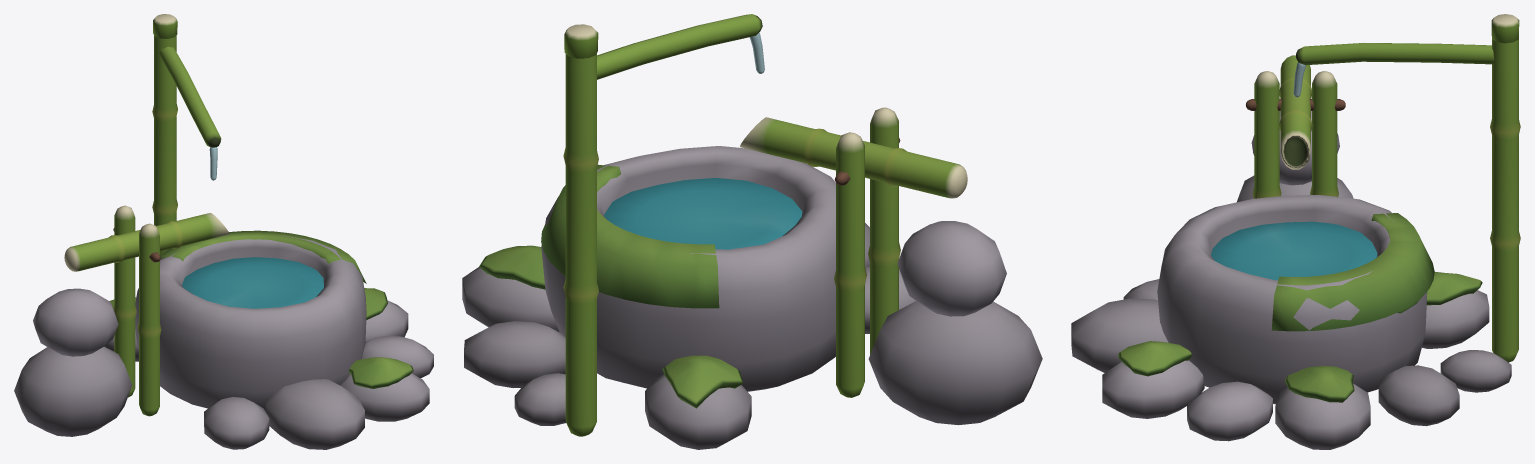
File: shishi-odoshi.glb
The picture shows the model from 3 angles, left to right: view 1: azimuth 30°, elevation 25°; view 2: azimuth 150°, elevation 25°; view 3: azimuth 270°, elevation 25°; orthographic projection. The views are drawn at different scales.
Visible parts, largest first — view 1: base, rocker; view 2: base, rocker; view 3: base, rocker.
Part boxes in pixels (<box>): base: <box>14,14,433,449</box>; rocker: <box>64,213,229,271</box>; base: <box>462,14,1042,449</box>; rocker: <box>740,117,967,198</box>; base: <box>1071,14,1520,449</box>; rocker: <box>1279,55,1312,169</box>.
Bounding box in the file's own units: 1.58 × 1.17 × 1.33.
